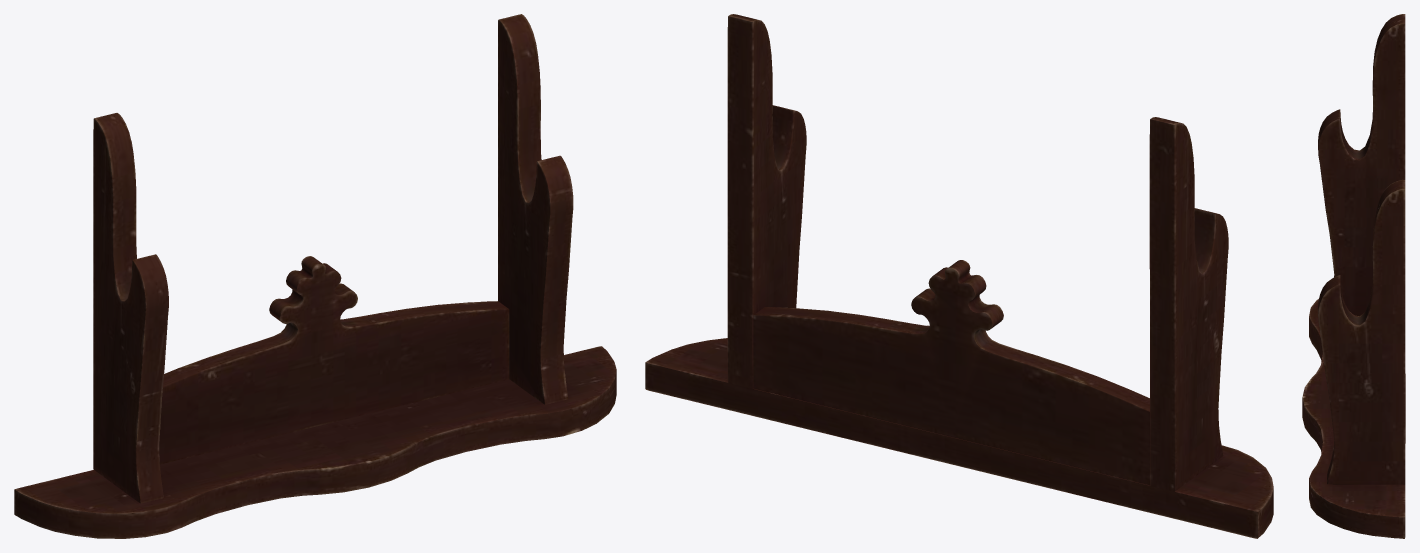
The model's file is katana_stand_01.glb.
The picture shows the model from 3 angles, left to right: view 1: azimuth 30°, elevation 25°; view 2: azimuth 150°, elevation 25°; view 3: azimuth 270°, elevation 25°; orthographic projection. The views are drawn at different scales.
Visible parts, largest first — view 1: katana_stand_01; view 2: katana_stand_01; view 3: katana_stand_01.
Part boxes in pixels (x1=…): katana_stand_01: x1=14, y1=14, x2=616, y2=538; katana_stand_01: x1=645, y1=14, x2=1273, y2=538; katana_stand_01: x1=1302, y1=14, x2=1405, y2=538.
Bounding box in the file's own units: 0.2958 × 0.182 × 0.0535.
1 material, 1 textured.
